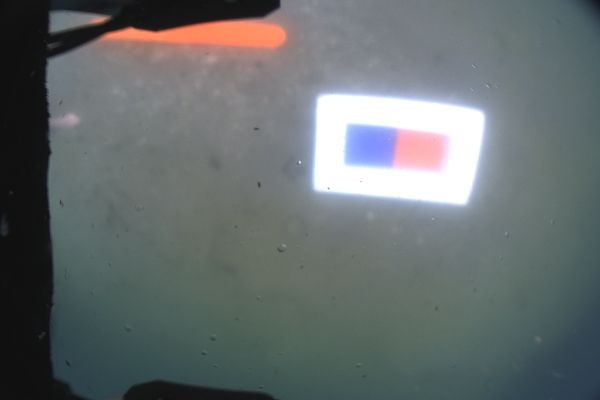bin: (313, 94, 485, 206)
bin_bleue: (346, 123, 396, 168)
bin_rouge: (395, 128, 443, 172)
path: (91, 18, 287, 48)
